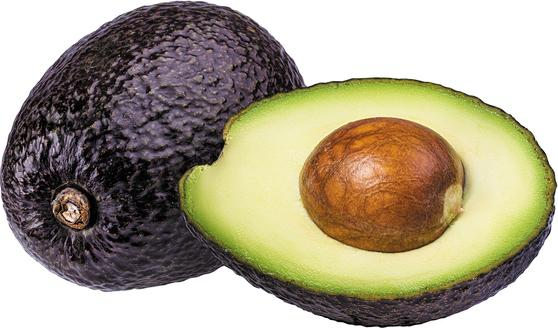avocado: (3, 2, 309, 294)
